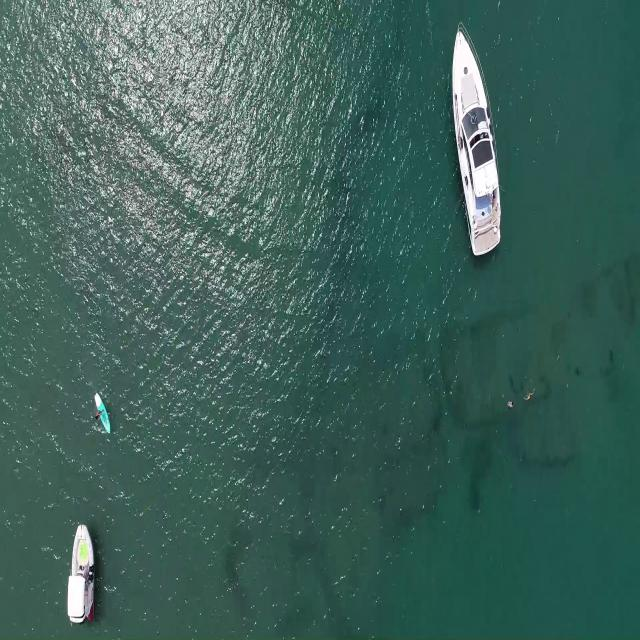boat: (449, 21, 504, 259), (66, 519, 98, 623)
person: (523, 389, 537, 403), (92, 406, 104, 422), (508, 400, 516, 410)
surfboard: (95, 389, 110, 440)
